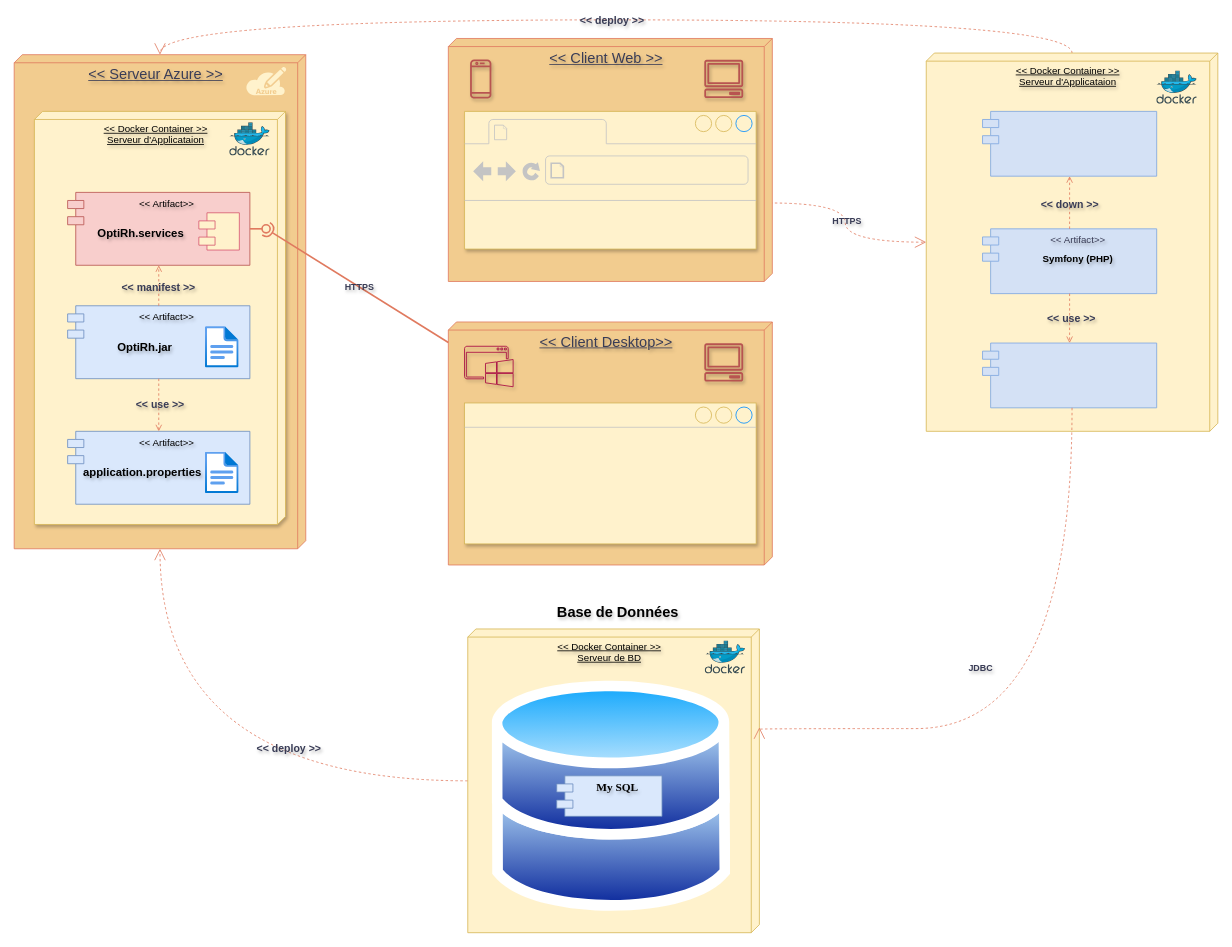
This 1232x947 diagram has some shape labels left out. Each missing label, with the centre of its shape:
"Apache" belongs at [1069,143].
"Doctrine ORM" belongs at [1069,375].
"https://www.optiRh.com" belongs at [670,170].
"OptiRH" belongs at [557,131].
"OptiRH.exe" belongs at [610,474].
